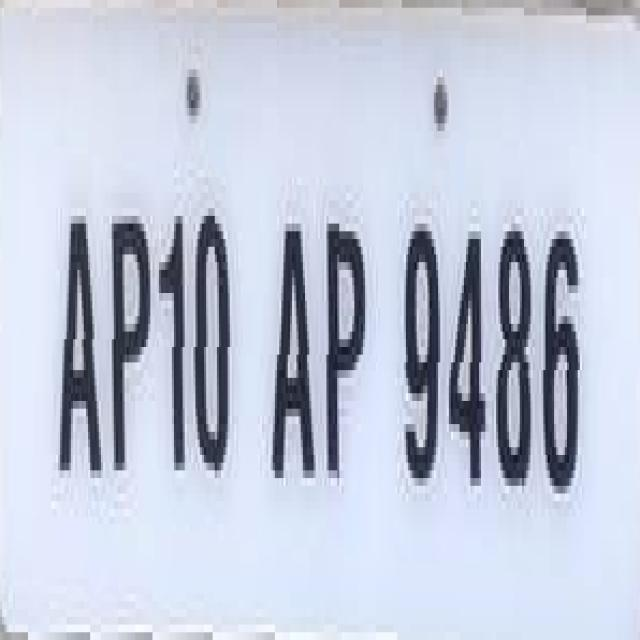plate: (21, 8, 640, 624)
